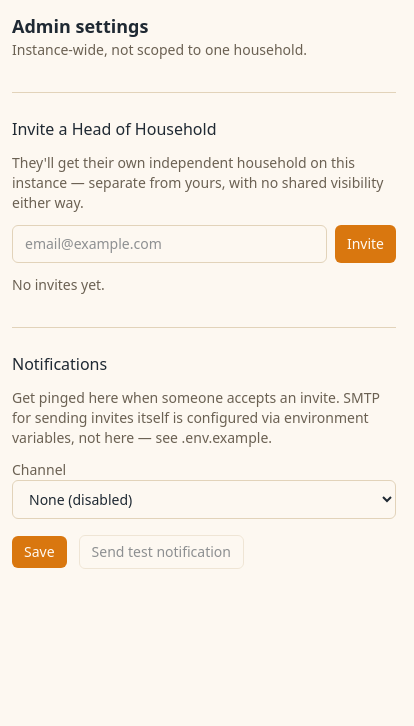
AdminSettingsPage › shows provider-specific fields when a channel is selected
This screenshot has width=414, height=726.
Expected: the text "Channel" is shown, [12,460,66,479]
Select "Discord" in the dropdown labelled "Channel" at (204, 500), box [12,480,396,519]
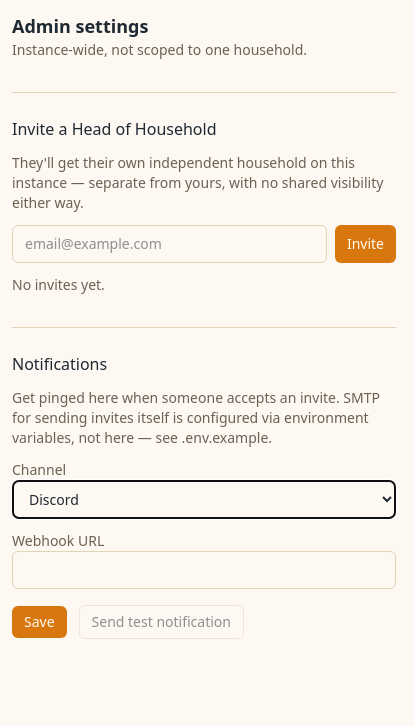
Result: the text "Webhook URL" is shown at [12,531,104,550]
Select "Pushover" in the dropdown labelled "Channel" at (204, 500), box [12,480,396,519]
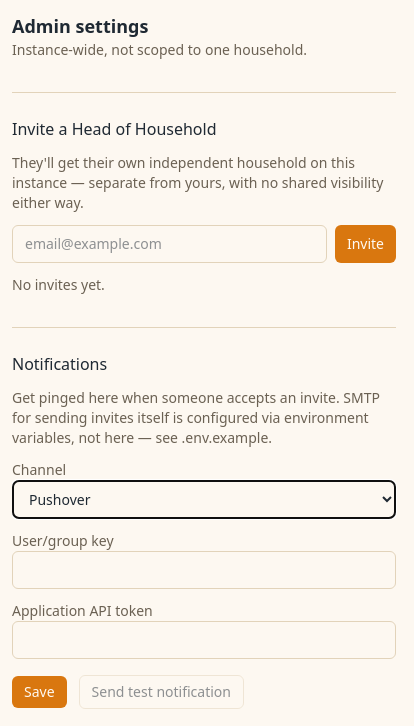
Result: the text "User/group key" is shown at [12,531,114,550]
Result: the text "Application API token" is shown at [12,601,153,620]
